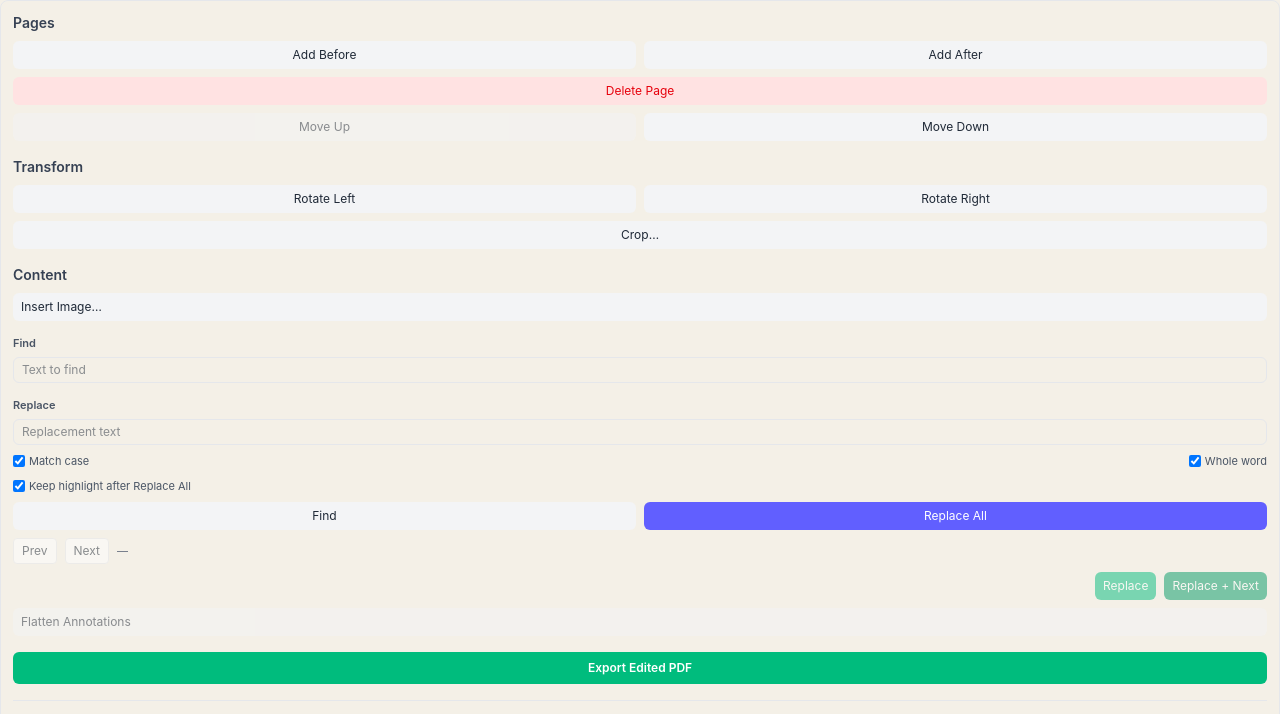
DocumentActionsPanel: Vigorous Find & Replace › Handles "Replace All" across multiple pages
# "World" appears on Page 1 and Page 2
Type "World" into the field labelled "Find". click: (640, 370)
box: [13, 357, 1267, 383]
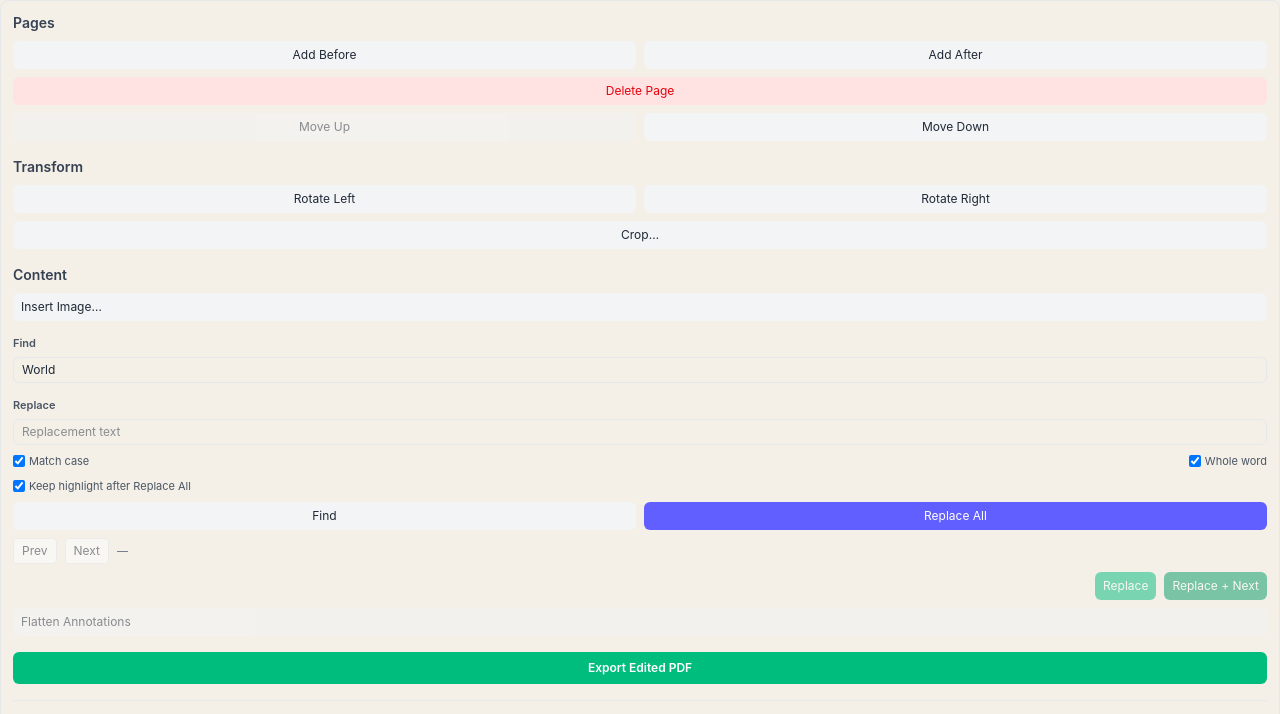
Type "Earth" into the field labelled "Replace". click: (640, 432)
box: [13, 419, 1267, 445]
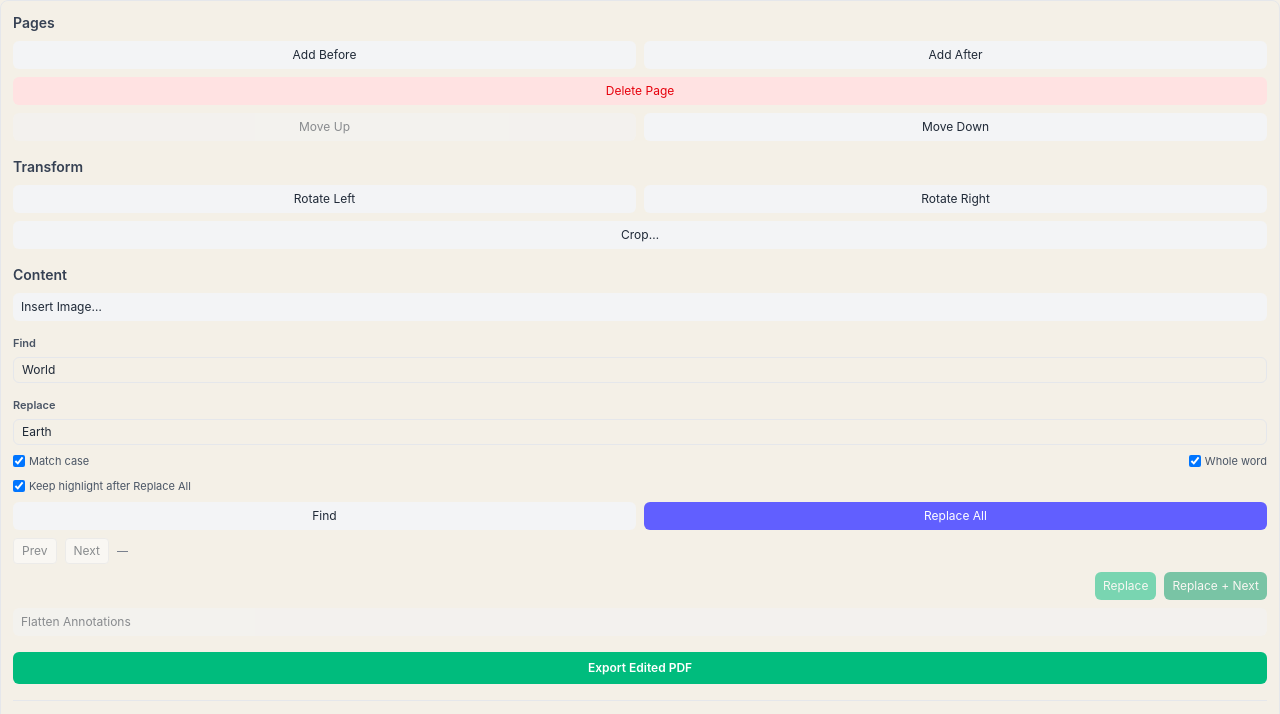
Click the button with aria-label "execute replace all". click: (956, 516)
box: [644, 502, 1267, 530]
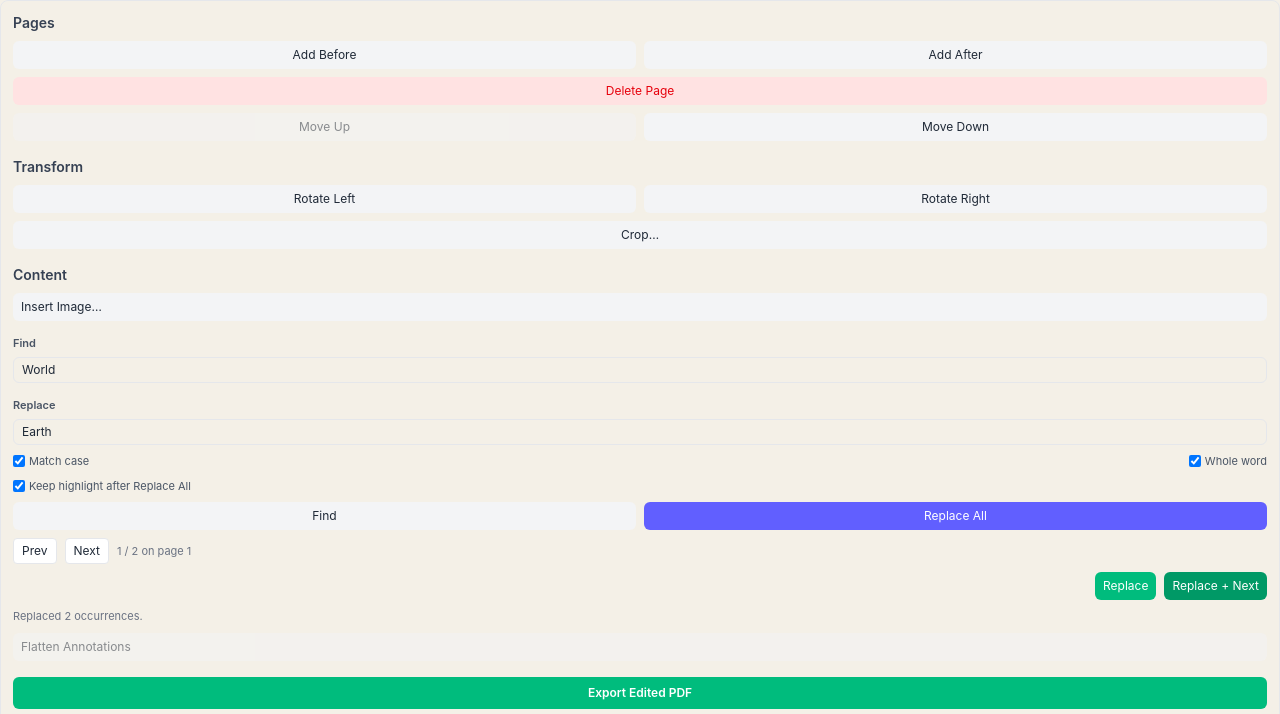
Expected: the text "Replaced 2 occurrences." is shown, [13, 609, 143, 623]
